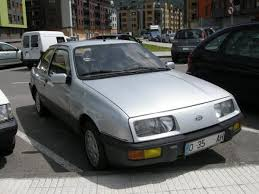car: (30, 41, 244, 171), (187, 24, 259, 129), (21, 31, 70, 68), (1, 82, 20, 170), (171, 28, 214, 65), (83, 34, 142, 53)
